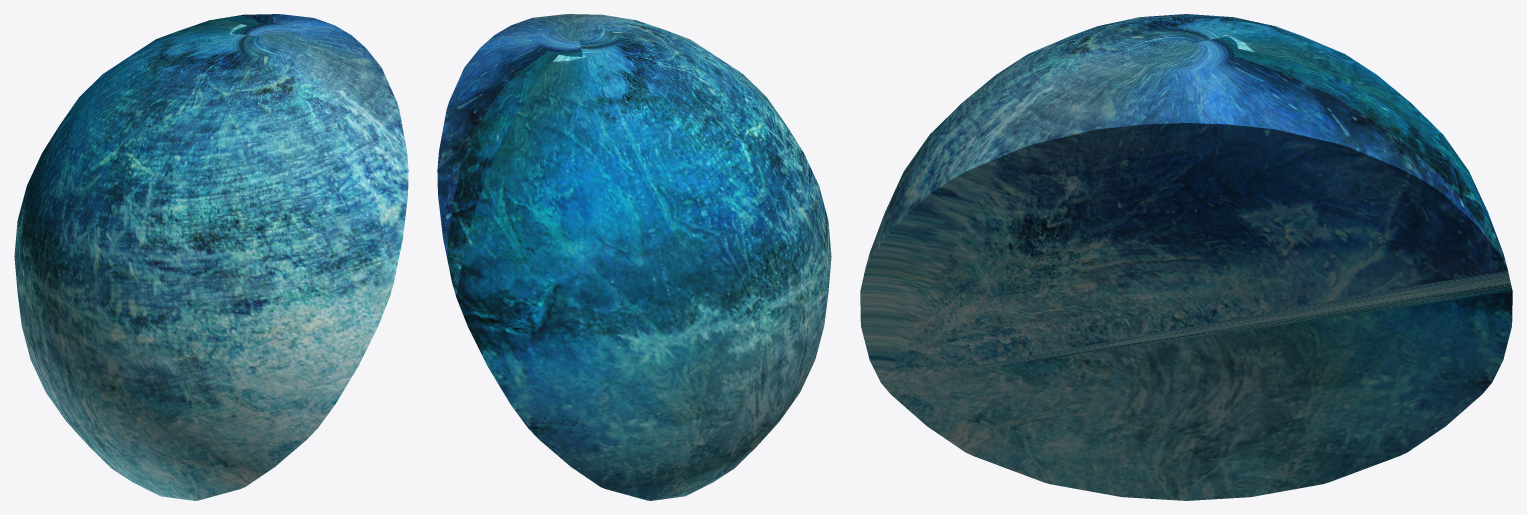
Rendered from planet_half1.fbx.
3 views of the same model, side by side, from view 1: azimuth 30°, elevation 25°; view 2: azimuth 150°, elevation 25°; view 3: azimuth 270°, elevation 25° (orthographic). The views are drawn at different scales.
Visible parts, largest first — view 1: polySurface2; view 2: polySurface2; view 3: polySurface2.
Boxes of the visible parts, x1,y1,x2,y2 form: polySurface2: (14, 14, 408, 500); polySurface2: (437, 14, 831, 500); polySurface2: (860, 14, 1512, 500).
Bounding box in the file's own units: 6.99 × 9.06 × 9.9.
